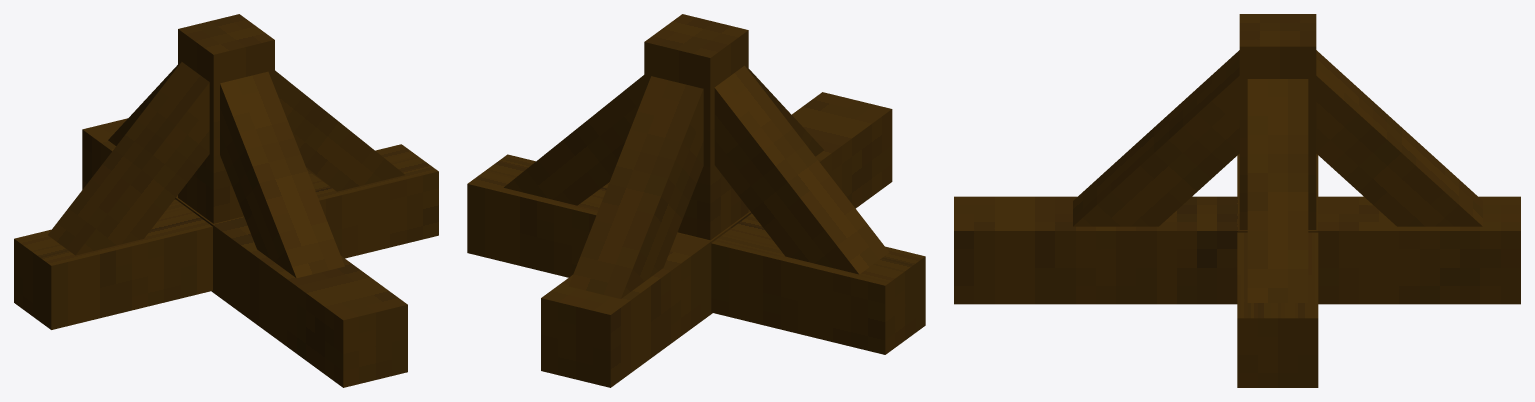
File: BallistaBase.obj
3 renders of one model, left to right at view 1: azimuth 30°, elevation 25°; view 2: azimuth 150°, elevation 25°; view 3: azimuth 270°, elevation 25°, orthographic. The views are drawn at different scales.
Parts seen in each view (by area): view 1: cuboid; view 2: cuboid; view 3: cuboid.
Part boxes in pixels (bbox=[...]): cuboid: bbox=[14, 14, 438, 387]; cuboid: bbox=[467, 14, 925, 387]; cuboid: bbox=[954, 14, 1520, 387].
Size of the model in its own units: 0.75 by 0.4375 by 0.875.
